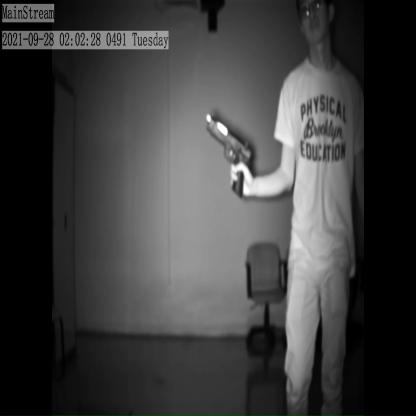weapon: (203, 106, 256, 201)
